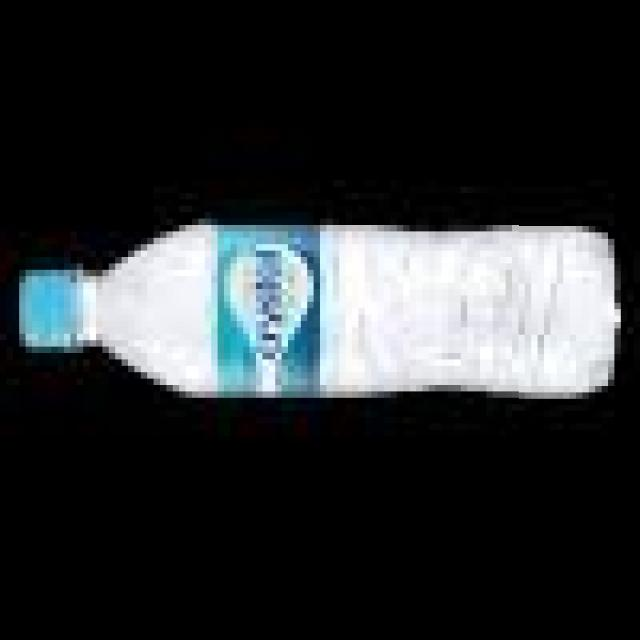bottom: (519, 202, 625, 408)
cap: (18, 257, 94, 360)
